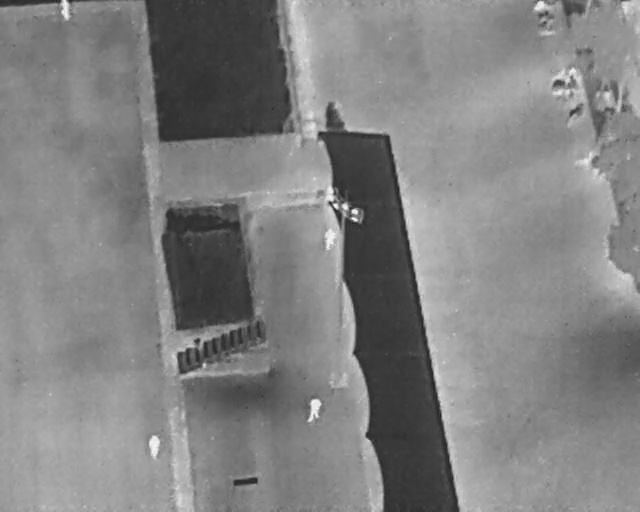Bicycle: (559, 98, 588, 130), (548, 75, 581, 98), (538, 22, 555, 36), (535, 10, 556, 21)
Person: (307, 396, 323, 423), (146, 433, 162, 460), (323, 227, 337, 251), (60, 0, 73, 21)
